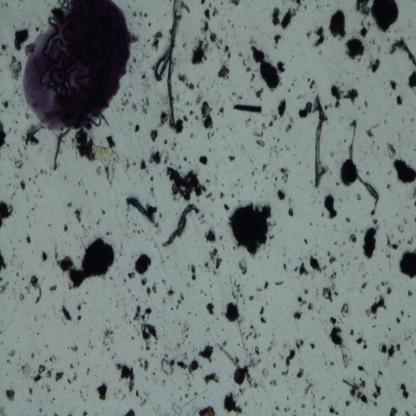Background material: (53, 237, 116, 291), (76, 128, 119, 188), (230, 203, 274, 257), (250, 43, 282, 93), (165, 165, 208, 202), (218, 342, 254, 386), (134, 302, 160, 350), (372, 1, 401, 35), (339, 374, 369, 405), (223, 278, 244, 321), (52, 129, 72, 170), (362, 218, 380, 262), (392, 159, 416, 188), (327, 9, 347, 42), (116, 364, 136, 396), (174, 320, 190, 358), (397, 248, 416, 279), (192, 38, 213, 66), (362, 296, 386, 320), (270, 7, 296, 29), (224, 388, 245, 412), (204, 249, 223, 274), (9, 52, 24, 83), (345, 40, 366, 62), (323, 272, 339, 300), (341, 159, 357, 187), (231, 101, 263, 115), (199, 101, 214, 130), (0, 200, 15, 228), (378, 342, 402, 359), (27, 120, 44, 144), (323, 194, 337, 221), (329, 84, 343, 110), (312, 26, 326, 52), (30, 276, 42, 306), (197, 343, 214, 363), (101, 325, 114, 351), (14, 27, 28, 51), (245, 324, 263, 342), (136, 255, 152, 275), (299, 290, 315, 310), (341, 345, 354, 369), (329, 326, 344, 346), (177, 74, 195, 90), (161, 356, 175, 376), (238, 51, 250, 74), (309, 256, 324, 274), (298, 101, 313, 119), (197, 402, 216, 416), (358, 18, 372, 37), (385, 233, 399, 252), (178, 360, 200, 372), (344, 89, 360, 105), (147, 204, 159, 225), (367, 56, 381, 74), (32, 364, 46, 382), (95, 382, 108, 401), (204, 226, 217, 245), (354, 1, 370, 16), (140, 70, 152, 90), (253, 130, 265, 150), (206, 4, 220, 21), (19, 361, 32, 379), (136, 356, 150, 372), (371, 383, 384, 400), (0, 121, 7, 151), (277, 99, 287, 120), (238, 256, 248, 277), (152, 30, 162, 51), (138, 156, 149, 175), (150, 150, 163, 166), (73, 206, 83, 226), (158, 110, 168, 130), (61, 304, 72, 322), (4, 388, 15, 406), (174, 294, 185, 312), (205, 371, 220, 384), (169, 401, 184, 414), (387, 143, 399, 159), (219, 65, 231, 81), (222, 44, 232, 63), (194, 90, 205, 107), (274, 403, 291, 414), (407, 68, 416, 88), (200, 18, 210, 36), (211, 34, 223, 49), (148, 128, 160, 143), (285, 348, 296, 364), (0, 249, 7, 273), (254, 345, 263, 363), (306, 74, 315, 92), (188, 263, 197, 281), (280, 166, 289, 184), (146, 283, 158, 296), (35, 171, 52, 180), (259, 306, 268, 323), (131, 10, 150, 18), (268, 113, 278, 128), (175, 119, 185, 134), (299, 261, 309, 276), (400, 385, 410, 399), (357, 336, 367, 350), (141, 100, 151, 114), (274, 141, 282, 158), (180, 2, 191, 14), (303, 383, 315, 394), (328, 404, 340, 415), (54, 370, 64, 383), (255, 87, 265, 100), (67, 374, 78, 385), (340, 303, 351, 314), (14, 160, 25, 171), (292, 309, 303, 320), (277, 189, 287, 201), (295, 368, 305, 380), (273, 33, 283, 45), (0, 41, 10, 53), (327, 252, 337, 264), (395, 94, 403, 108), (277, 60, 285, 74), (94, 215, 102, 229), (48, 351, 58, 362), (102, 228, 113, 238), (260, 368, 270, 379), (295, 338, 305, 349), (0, 281, 9, 293), (205, 302, 214, 314), (388, 406, 398, 416), (296, 1, 305, 12), (19, 179, 27, 191), (133, 122, 141, 134), (366, 127, 374, 139), (376, 368, 385, 378), (3, 100, 12, 110), (329, 316, 338, 326), (349, 234, 358, 244), (390, 81, 398, 92), (40, 252, 48, 263), (6, 350, 17, 358), (18, 291, 25, 303), (46, 368, 53, 380), (261, 161, 268, 173), (18, 146, 24, 160), (268, 379, 277, 388), (199, 155, 208, 164), (126, 271, 135, 280), (100, 206, 108, 216), (287, 208, 295, 218), (81, 408, 91, 416), (124, 408, 134, 416), (228, 152, 236, 162), (140, 276, 148, 286), (331, 356, 338, 367), (357, 363, 366, 371), (132, 102, 138, 114), (166, 288, 175, 296), (345, 216, 354, 224), (274, 280, 284, 287), (398, 224, 405, 234), (230, 0, 241, 6), (247, 294, 255, 302), (308, 343, 316, 351), (25, 235, 32, 244), (262, 280, 269, 289), (306, 29, 312, 39), (407, 236, 413, 246), (386, 286, 392, 296), (286, 124, 293, 132), (66, 201, 73, 209), (223, 202, 230, 210), (68, 362, 75, 370), (51, 285, 58, 293), (70, 346, 79, 352), (218, 108, 224, 117), (63, 223, 69, 232), (77, 302, 82, 312), (165, 154, 170, 164), (360, 282, 367, 289), (408, 290, 414, 298), (396, 317, 402, 325), (76, 313, 82, 321), (28, 388, 34, 396), (372, 217, 378, 225), (218, 191, 224, 199), (281, 370, 289, 376), (250, 72, 255, 81), (303, 238, 309, 245), (349, 329, 355, 336), (183, 114, 188, 122), (188, 110, 197, 114), (404, 410, 411, 415), (272, 364, 280, 368), (25, 115, 31, 119), (196, 115, 199, 122)
Cellulose filter fibre: (154, 1, 181, 128), (349, 126, 380, 212), (163, 204, 200, 248), (313, 95, 326, 187), (397, 37, 416, 65)
Cotton: (127, 197, 149, 218)
Pen: (23, 0, 130, 132)
